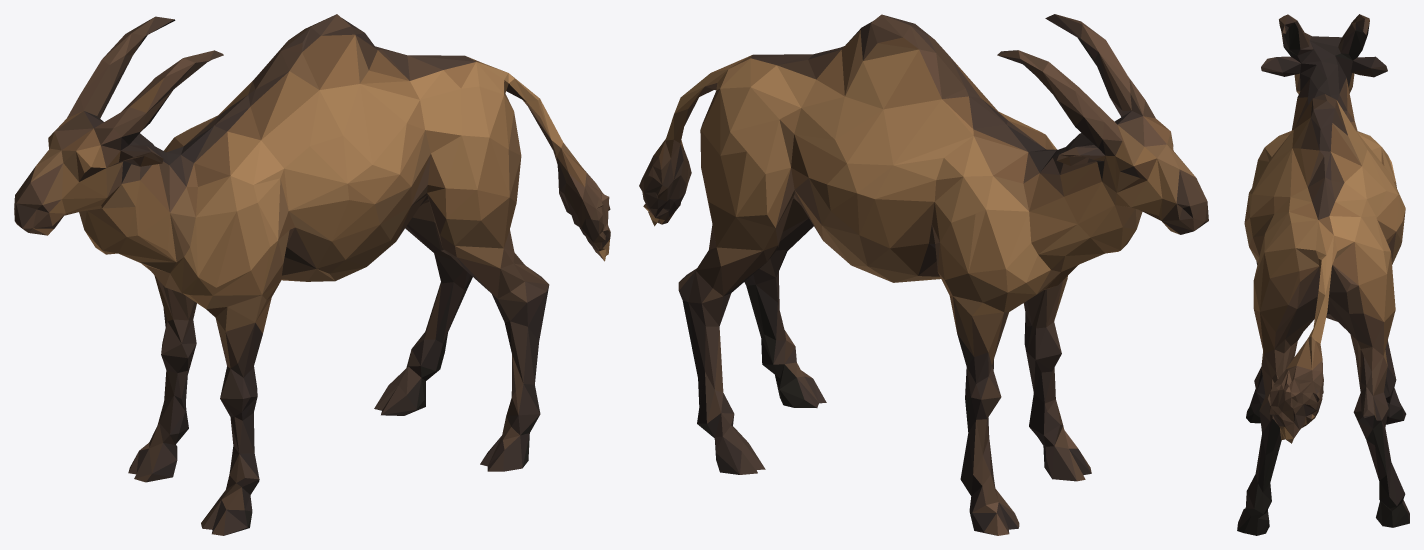
Rendered from dune-strider.glb.
3 views of the same model, side by side, from view 1: azimuth 30°, elevation 25°; view 2: azimuth 150°, elevation 25°; view 3: azimuth 270°, elevation 25° (orthographic). The views are drawn at different scales.
Visible parts, largest first — view 1: dune-strider; view 2: dune-strider; view 3: dune-strider.
Boxes of the visible parts, <box> form: dune-strider: <box>14,14,610,535</box>; dune-strider: <box>639,14,1208,535</box>; dune-strider: <box>1237,14,1409,535</box>.
Bounding box in the file's own units: 3.6 × 2.81 × 1.12.
